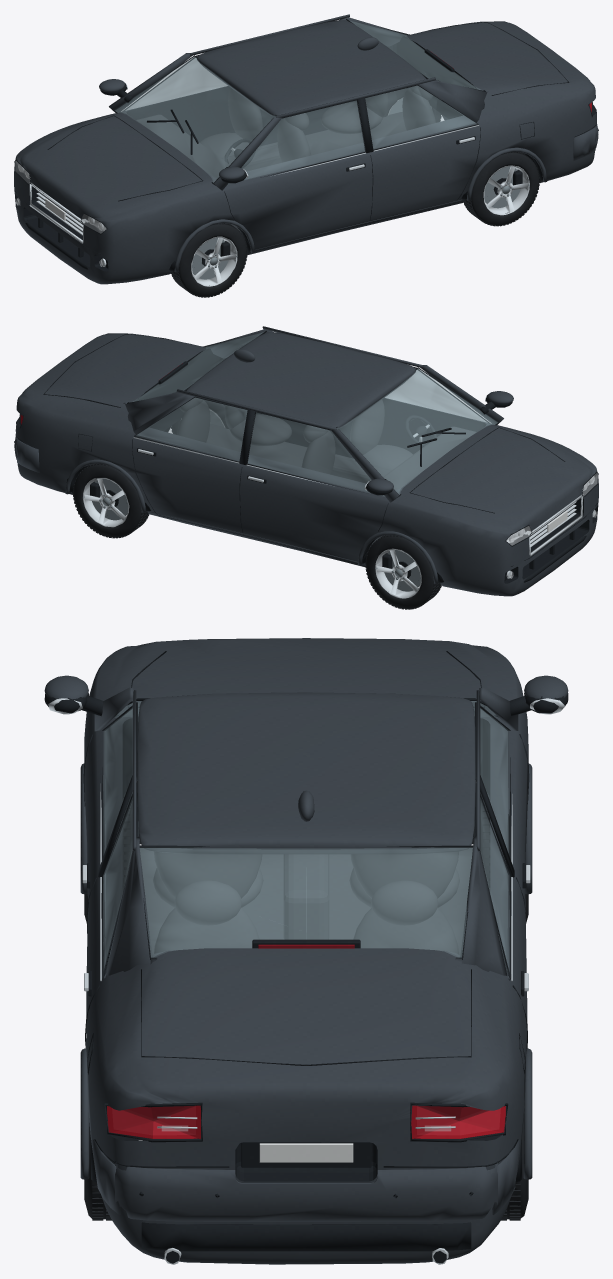
The model's file is sedan-road.glb.
The picture shows the model from 3 angles, top to bottom: view 1: azimuth 30°, elevation 25°; view 2: azimuth 150°, elevation 25°; view 3: azimuth 270°, elevation 25°; orthographic projection. The views are drawn at different scales.
Parts seen in each view (by area): view 1: Aerodynamic mirror painted cap, Front side door glass, Aerodynamic mirror lower housing, Adjustable headrest, 107 reused Sculpted_tyre, 107 reused Alloy_five_spoke_rim, 107 reused Center_cap, Clear reversing lens insert; view 2: Aerodynamic mirror painted cap, Front side door glass, Aerodynamic mirror lower housing, Adjustable headrest, 107 reused Sculpted_tyre, 107 reused Alloy_five_spoke_rim, 107 reused Center_cap, Clear reversing lens insert; view 3: Aerodynamic mirror painted cap, Front side door glass, Adjustable headrest, Aerodynamic mirror lower housing, Flush corner wrapping ruby lamp lens, 107 reused Sculpted_tyre, 107 reused Alloy_five_spoke_rim, Front license plate.
Part boxes in pixels (x1,y1,x2,y2): Aerodynamic mirror painted cap: [14, 14, 598, 284]; Front side door glass: [115, 20, 480, 184]; Aerodynamic mirror lower housing: [14, 19, 598, 271]; Adjustable headrest: [136, 85, 435, 239]; 107 reused Sculpted_tyre: [171, 88, 539, 297]; 107 reused Alloy_five_spoke_rim: [17, 80, 529, 286]; 107 reused Center_cap: [192, 98, 529, 279]; Clear reversing lens insert: [15, 161, 106, 266]; Aerodynamic mirror painted cap: [14, 326, 598, 596]; Front side door glass: [132, 332, 497, 496]; Aerodynamic mirror lower housing: [14, 330, 598, 583]; Adjustable headrest: [177, 397, 476, 552]; 107 reused Sculpted_tyre: [73, 400, 441, 609]; 107 reused Alloy_five_spoke_rim: [83, 392, 595, 598]; 107 reused Center_cap: [82, 410, 420, 591]; Clear reversing lens insert: [506, 473, 597, 578]; Aerodynamic mirror painted cap: [44, 638, 568, 1264]; Front side door glass: [103, 701, 509, 975]; Adjustable headrest: [136, 780, 476, 955]; Aerodynamic mirror lower housing: [44, 651, 568, 1263]; Flush corner wrapping ruby lamp lens: [107, 944, 505, 1138]; 107 reused Sculpted_tyre: [84, 793, 528, 1220]; 107 reused Alloy_five_spoke_rim: [48, 698, 565, 1264]; Front license plate: [259, 1143, 353, 1162].
Size of the model in its own units: 4.84 by 1.55 by 2.17.
Materials: 10 (10 with a texture image).
